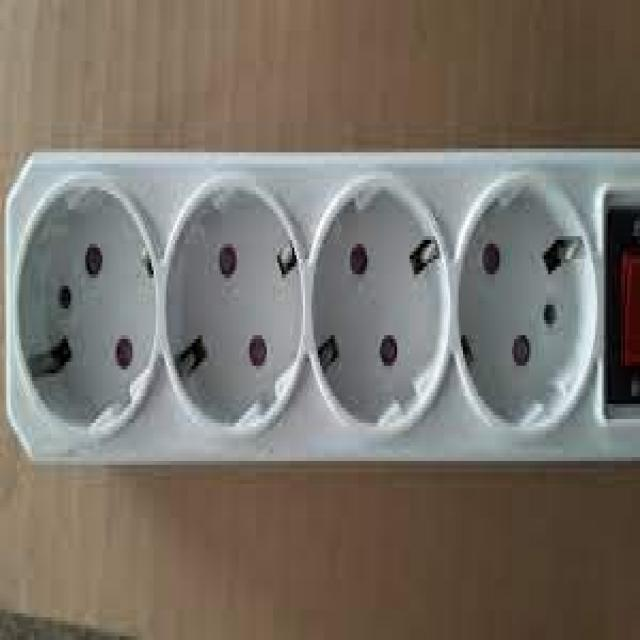typeb: (0, 137, 640, 539)
